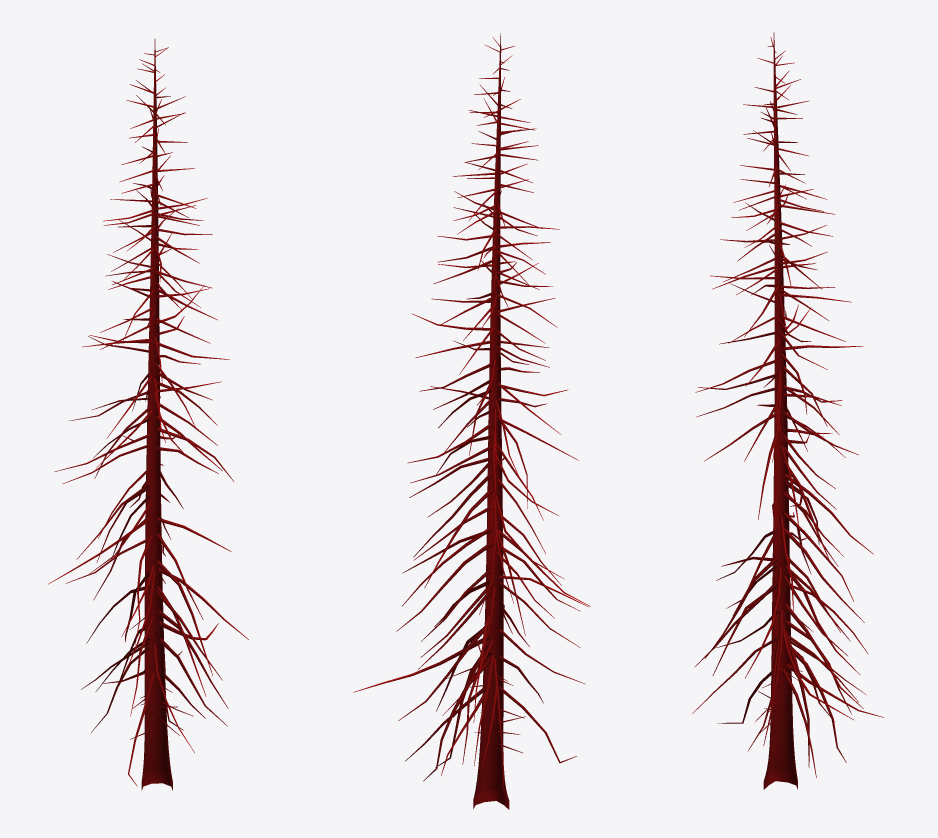
File: pine_c_lod1.glb
3 renders of one model, left to right at view 1: azimuth 30°, elevation 25°; view 2: azimuth 150°, elevation 25°; view 3: azimuth 270°, elevation 25°, orthographic. The views are drawn at different scales.
Visible parts, largest first — view 1: pine_c_LOD1; view 2: pine_c_LOD1; view 3: pine_c_LOD1.
Part boxes in pixels (bbox=[...]): pine_c_LOD1: bbox=[48, 39, 248, 790]; pine_c_LOD1: bbox=[353, 33, 590, 809]; pine_c_LOD1: bbox=[692, 32, 883, 789].
Size of the model in its own units: 7.07 by 20.67 by 6.5.
